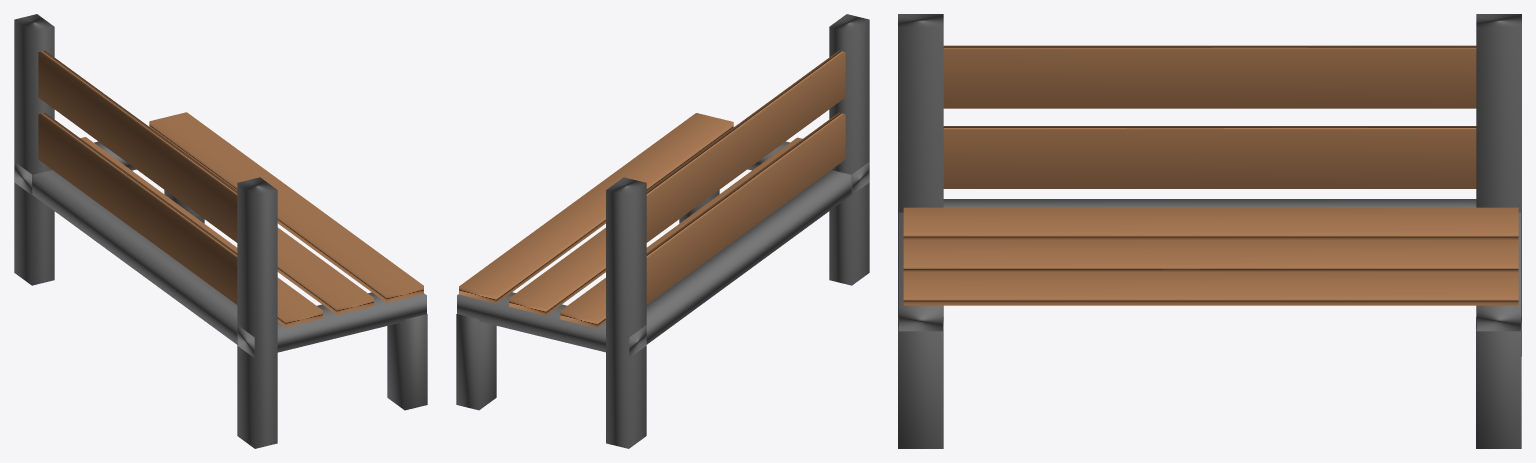
Rendered from bench.fbx.
3 views of the same model, side by side, from view 1: azimuth 30°, elevation 25°; view 2: azimuth 150°, elevation 25°; view 3: azimuth 270°, elevation 25° (orthographic). The views are drawn at different scales.
Parts seen in each view (by area): view 1: Cube.011, Cube.010, Cube.002, Cube.007, Cube.003, Cube.006, Cube.001, Cube.008, Cube, Cube.009, Cube.004; view 2: Cube.010, Cube.011, Cube.003, Cube.007, Cube.002, Cube.006, Cube.004, Cube.008, Cube.005, Cube.009, Cube.001; view 3: Cube.011, Cube.010, Cube.007, Cube.009, Cube.008, Cube.003, Cube.002, Cube.005, Cube, Cube.006, Cube.001, Cube.004.
Boxes of the visible parts, box(x1,y1,x2,y2) form: Cube.011: box(38, 50, 237, 242); Cube.010: box(38, 112, 237, 304); Cube.002: box(237, 177, 277, 448); Cube.007: box(149, 112, 423, 302); Cube.003: box(14, 14, 54, 285); Cube.006: box(32, 170, 237, 344); Cube.001: box(237, 292, 426, 357); Cube.008: box(277, 227, 373, 314); Cube: box(387, 314, 427, 410); Cube.009: box(80, 137, 322, 327); Cube.004: box(14, 141, 136, 194); Cube.010: box(646, 112, 845, 304); Cube.011: box(646, 50, 845, 242); Cube.003: box(606, 177, 646, 448); Cube.007: box(459, 113, 733, 303); Cube.002: box(829, 14, 869, 285); Cube.006: box(646, 170, 851, 344); Cube.004: box(457, 292, 646, 357); Cube.008: box(509, 228, 605, 315); Cube.005: box(456, 314, 496, 410); Cube.009: box(560, 137, 802, 328); Cube.001: box(747, 141, 869, 194); Cube.011: box(943, 45, 1476, 108); Cube.010: box(943, 126, 1476, 188); Cube.007: box(903, 271, 1518, 305); Cube.009: box(903, 207, 1518, 239); Cube.008: box(903, 240, 1518, 271); Cube.003: box(1476, 14, 1521, 356); Cube.002: box(898, 14, 943, 316); Cube.005: box(1476, 317, 1521, 448); Cube: box(898, 317, 943, 448); Cube.006: box(943, 199, 1476, 207); Cube.001: box(898, 212, 942, 331); Cube.004: box(1476, 212, 1520, 331).
Bounding box in the file's own units: 46.54 × 65.21 × 112.
